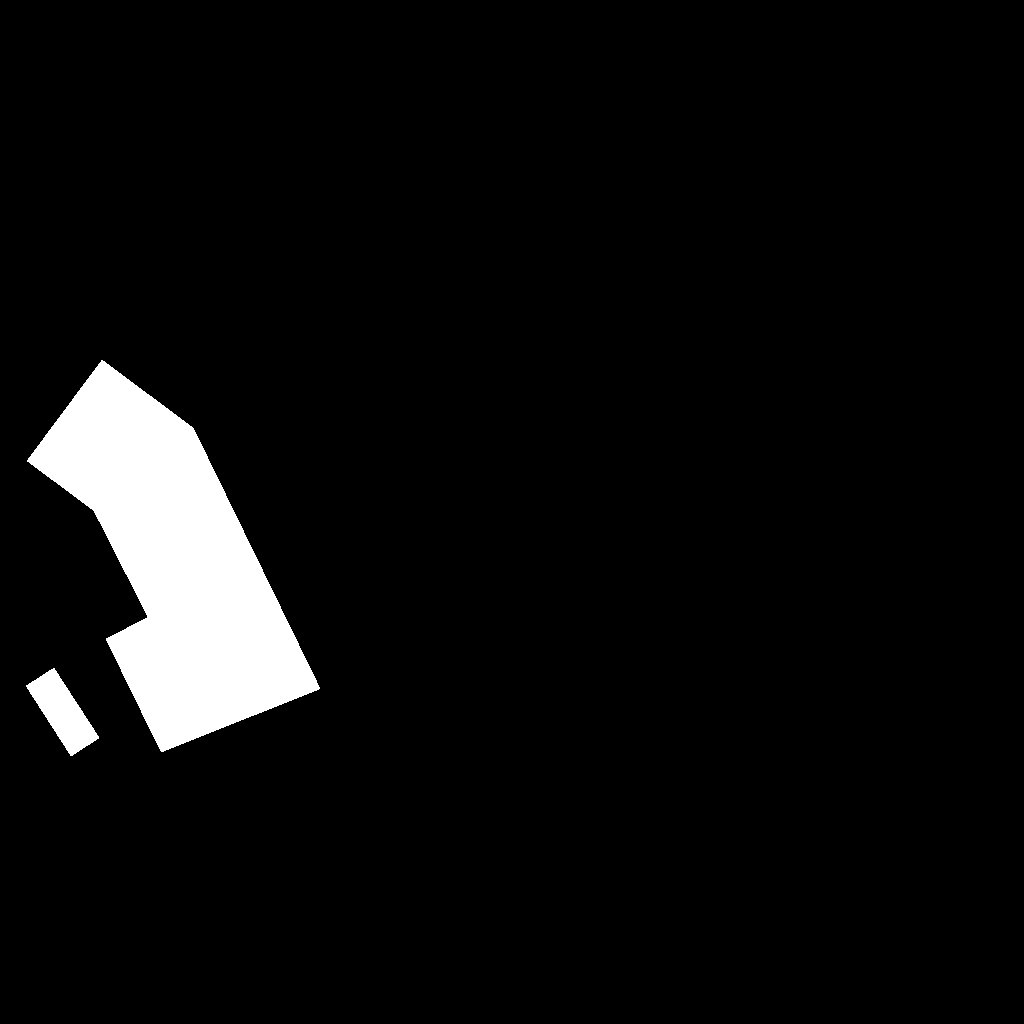building: (27, 360, 321, 753), (26, 668, 100, 757)
